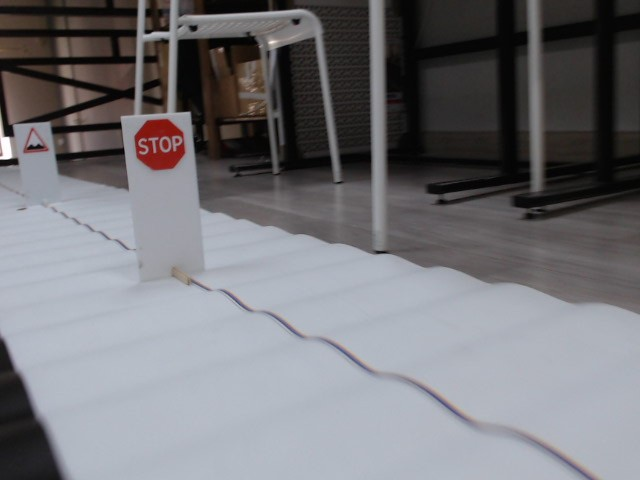Stop: (133, 118, 188, 170)
